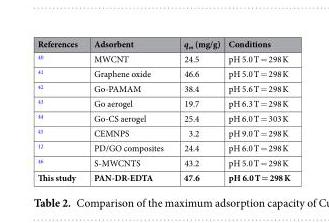table: (36, 37, 289, 183)
table column: (85, 37, 172, 183), (223, 37, 289, 183), (172, 37, 223, 183), (36, 37, 85, 183)
table column header: (36, 37, 289, 51)
table row: (36, 65, 289, 80), (36, 80, 289, 95), (36, 95, 289, 110), (36, 110, 289, 125), (36, 125, 289, 140), (36, 154, 289, 169), (36, 37, 289, 51), (36, 51, 289, 65), (36, 140, 289, 154), (36, 169, 289, 183)
